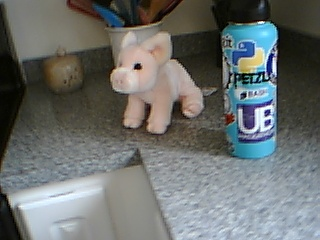piggy: (108, 30, 205, 135)
